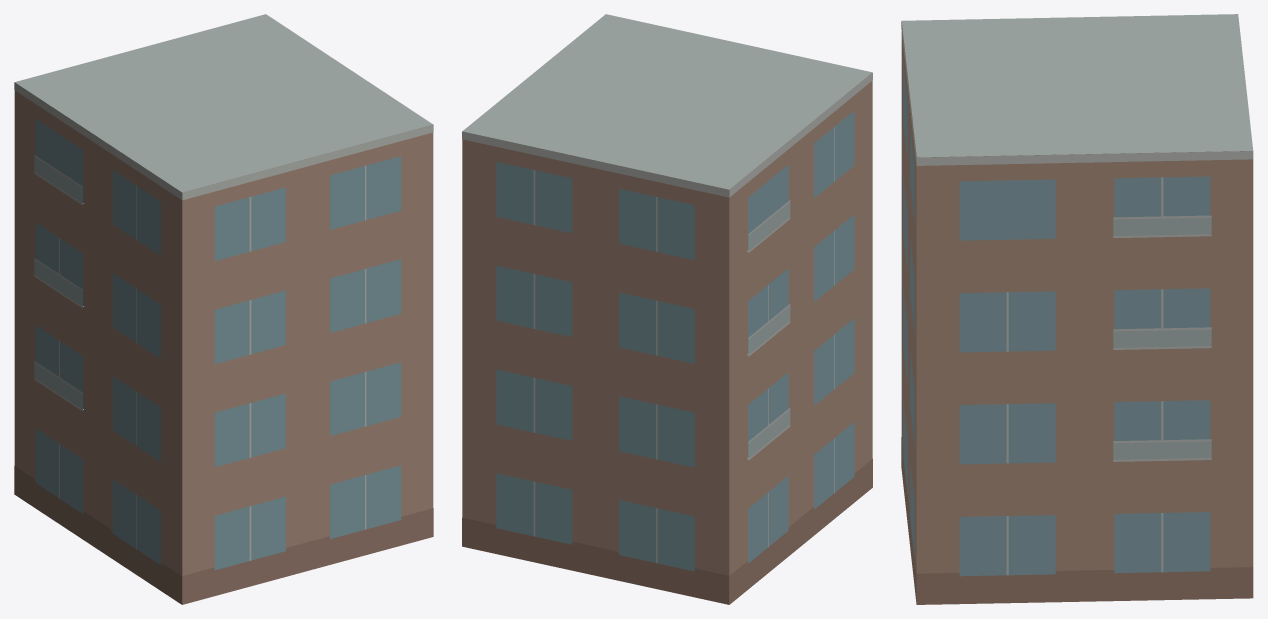
File: survey-upis-32594435.glb
3 views of the same model, side by side, from view 1: azimuth 30°, elevation 25°; view 2: azimuth 150°, elevation 25°; view 3: azimuth 270°, elevation 25° (orthographic). The views are drawn at different scales.
Visible parts, largest first — view 1: survey-upis-32594435.tmp; view 2: survey-upis-32594435.tmp; view 3: survey-upis-32594435.tmp.
Part boxes in pixels (x1=…): survey-upis-32594435.tmp: x1=14, y1=14, x2=433, y2=604; survey-upis-32594435.tmp: x1=462, y1=14, x2=872, y2=604; survey-upis-32594435.tmp: x1=901, y1=14, x2=1253, y2=604.
Bounding box in the file's own units: 8.81 × 12.8 × 9.13.
